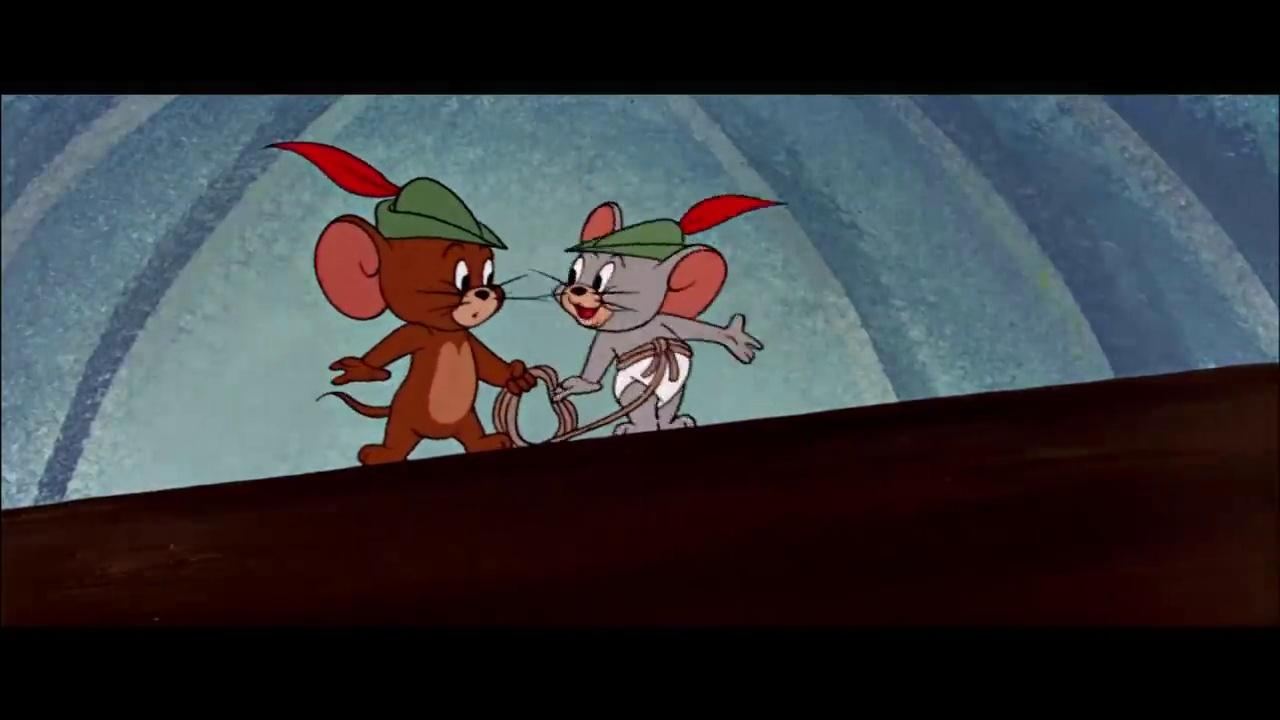Jerry: (313, 211, 539, 466)
